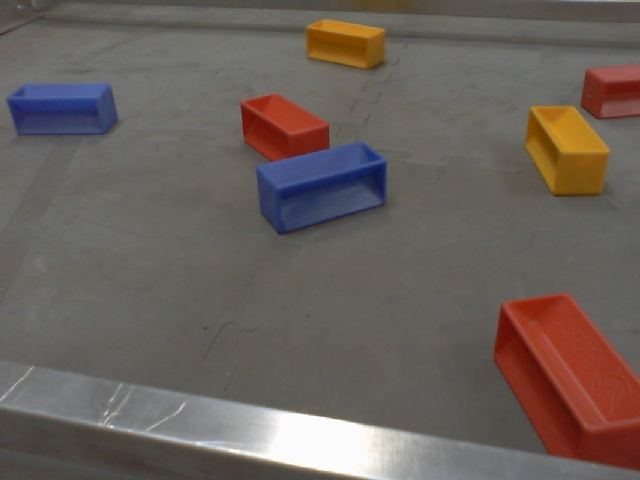BlueSample: (249, 140, 391, 237), (7, 78, 122, 140)
RedSample: (489, 286, 640, 473), (236, 92, 333, 164), (579, 60, 640, 122)
YellowSample: (522, 101, 612, 198), (302, 16, 387, 72)
